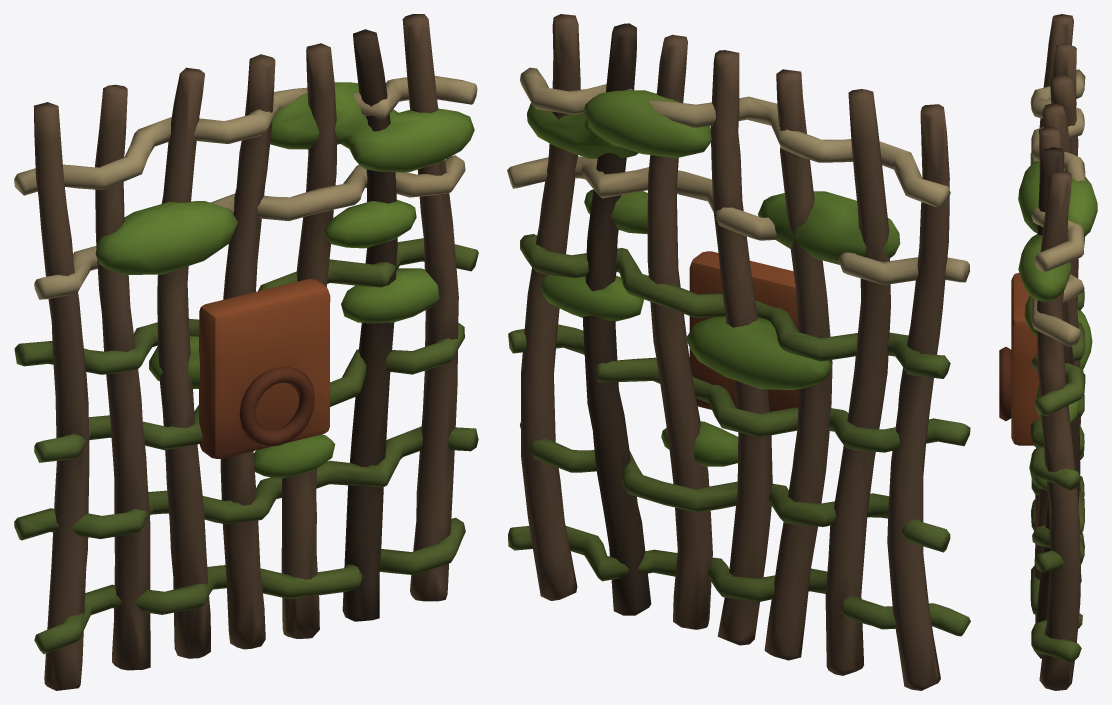
The model's file is mire_seal_gate.glb.
The picture shows the model from 3 angles, left to right: view 1: azimuth 30°, elevation 25°; view 2: azimuth 150°, elevation 25°; view 3: azimuth 270°, elevation 25°; orthographic projection. The views are drawn at different scales.
Parts seen in each view (by area): view 1: mire_seal_gate; view 2: mire_seal_gate; view 3: mire_seal_gate.
Part boxes in pixels (x1,y1,x2,y2): mire_seal_gate: [14, 14, 478, 690]; mire_seal_gate: [507, 14, 970, 690]; mire_seal_gate: [999, 14, 1097, 690].
Bounding box in the file's own units: 8.14 × 10.26 × 1.8.
